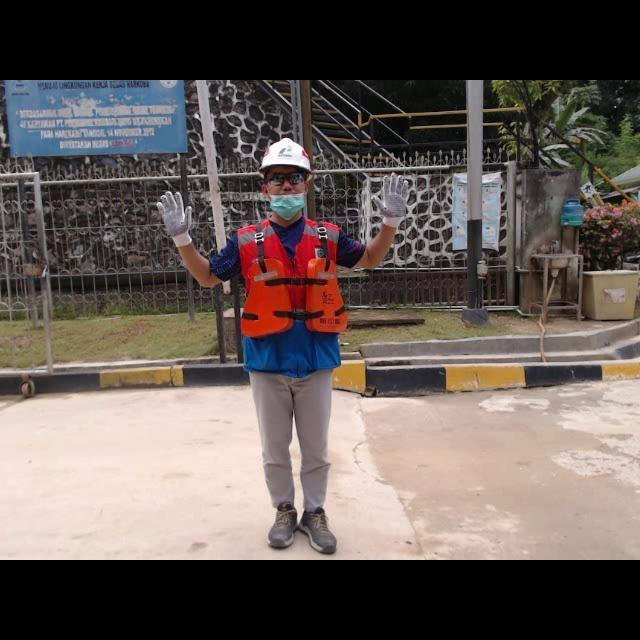Gloves: (371, 172, 410, 228), (155, 191, 195, 242)
Hardhat: (259, 136, 313, 170)
Mask: (265, 189, 308, 219)
Person: (154, 135, 412, 555)
Safety Vest: (236, 219, 348, 336)
